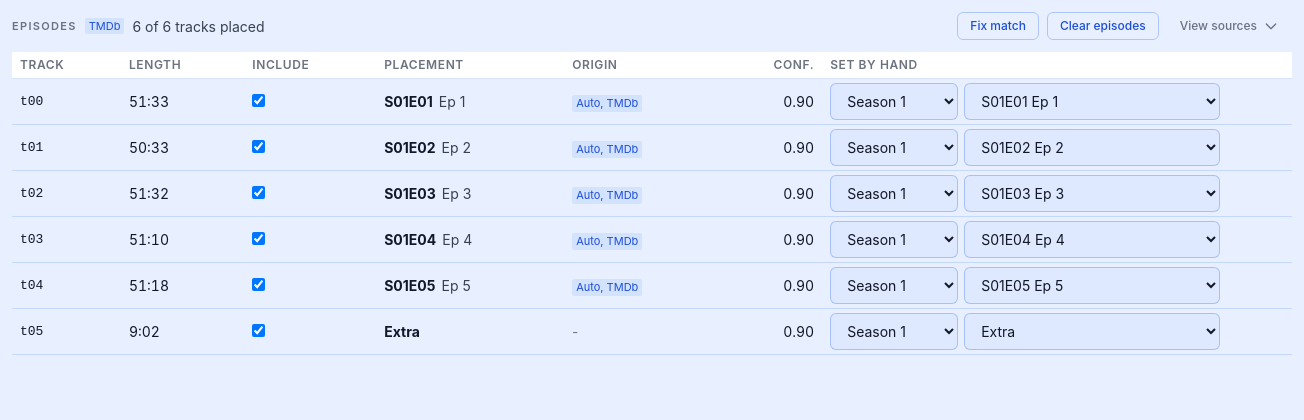
Test case: EpisodeMatchPanel › view sources opens the other sources inline
Expected: the text "matched 5 of 6" is not shown
Click the button "View sources".
click(1229, 26)  # box [1167,12,1292,40]
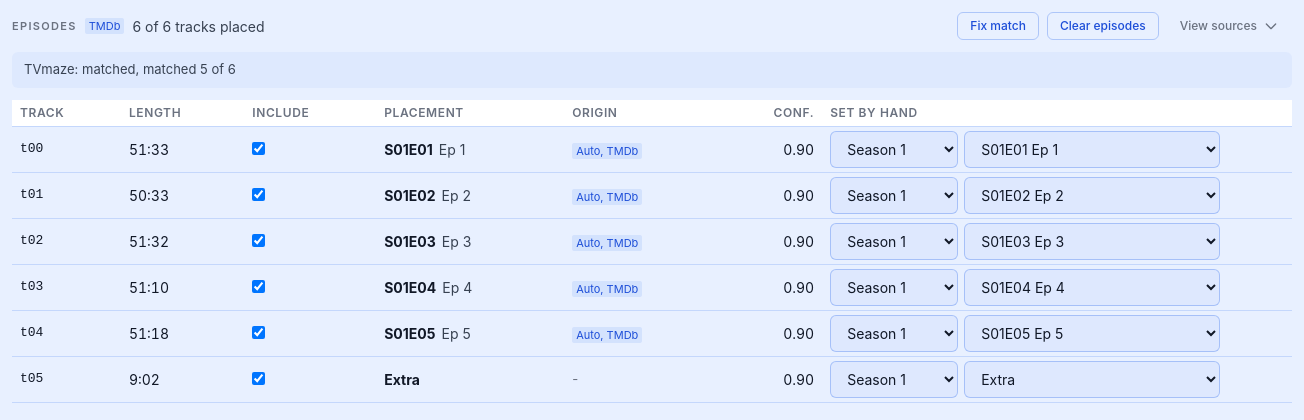
Expected: the list item "TVmaze: matched, matched 5 of 6" is shown, [24,60,236,80]
